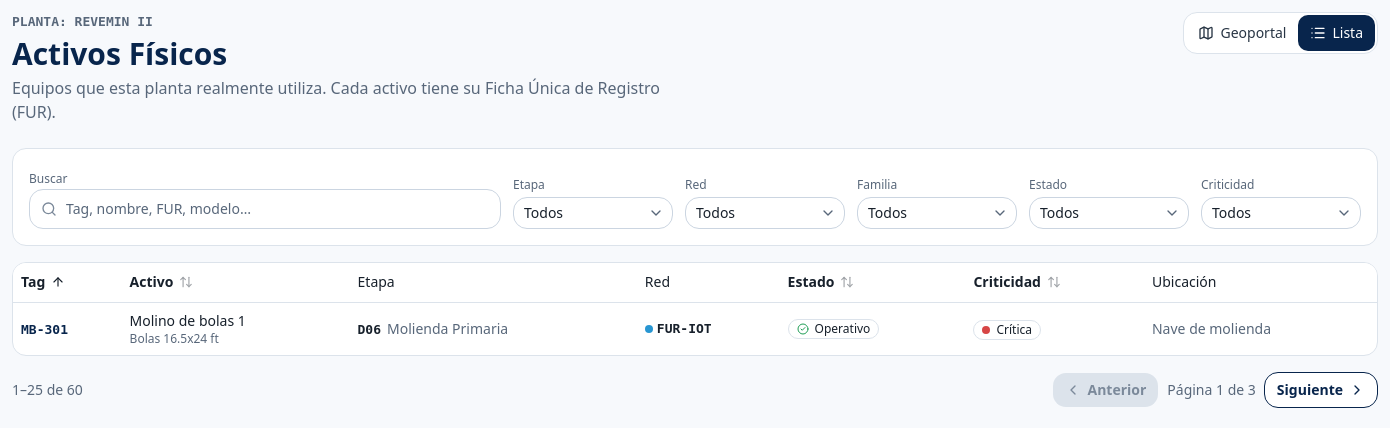
Test case: Activos Físicos (listado) › pagina: muestra el rango y pide la página siguiente
Expected: the link "MB-301" is shown, [21,322,68,337]
Expected: the text "1–25 de 60" is shown, [12,380,83,400]
Click the button with aria-label "Página siguiente": point(1321, 390) [1264,372,1378,408]
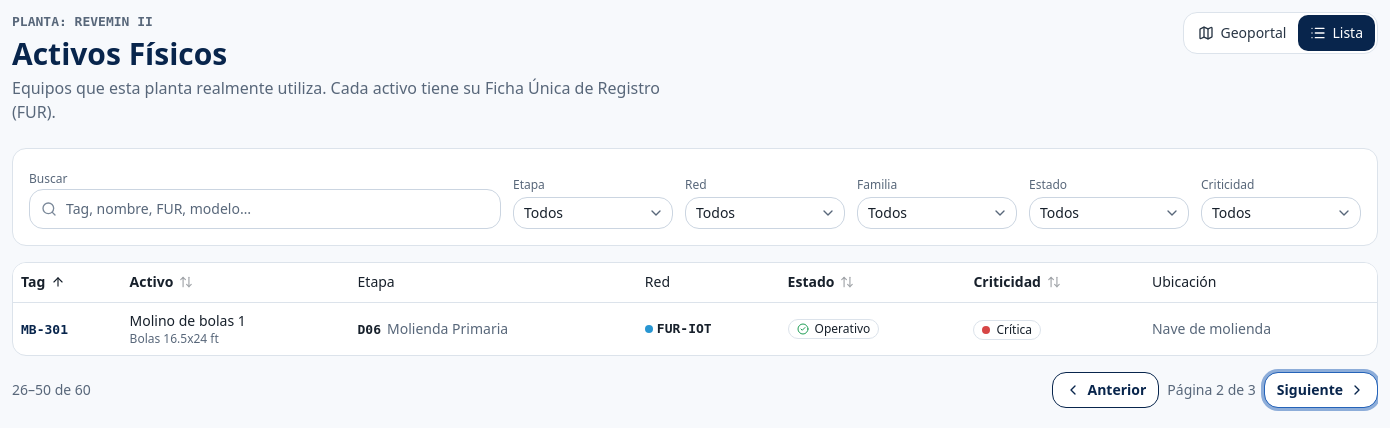
Expected: the text "Página 2 de 3" is shown, [1167,380,1256,400]
